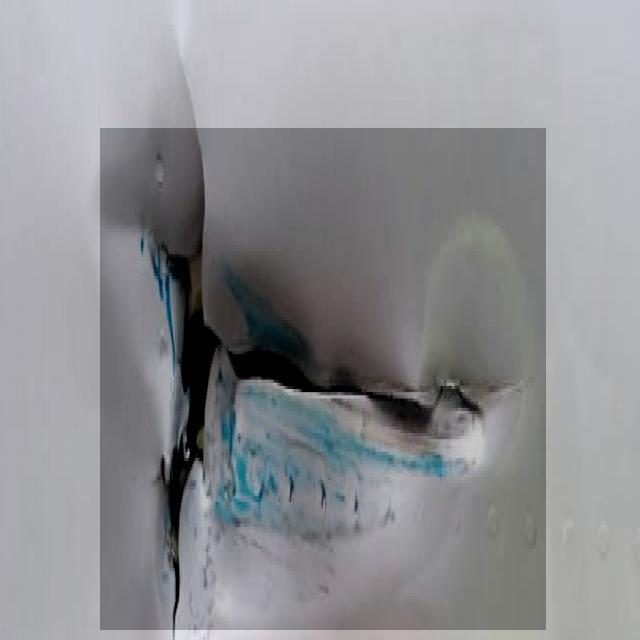crack: (102, 130, 548, 632)
